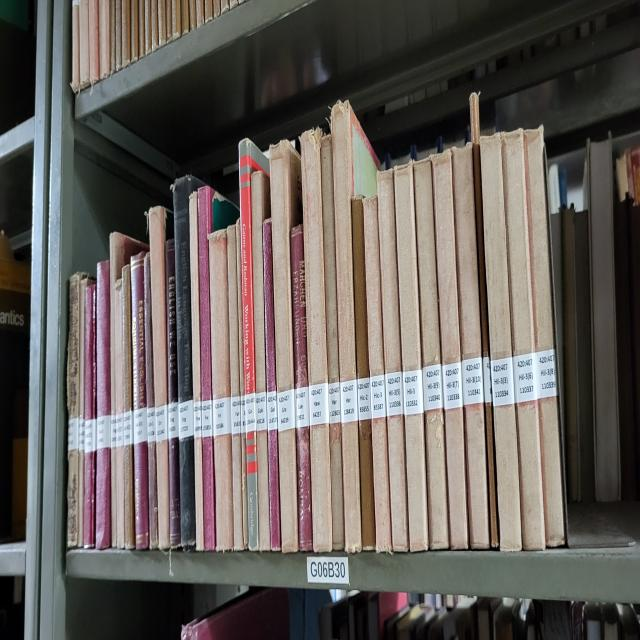Book: (331, 100, 380, 552), (501, 130, 545, 549), (524, 127, 566, 547), (480, 135, 521, 552), (451, 143, 490, 549), (432, 152, 469, 549), (394, 162, 429, 552), (414, 160, 449, 549), (301, 127, 332, 552), (270, 141, 302, 552), (239, 138, 269, 549), (378, 170, 409, 552), (174, 176, 201, 549), (364, 195, 392, 552), (320, 135, 344, 549), (351, 198, 375, 549), (208, 230, 234, 549), (149, 206, 170, 549), (251, 170, 270, 549), (290, 225, 312, 552), (198, 187, 216, 549), (262, 219, 281, 549), (226, 225, 245, 549), (130, 252, 149, 549), (66, 273, 86, 547), (189, 192, 204, 549), (165, 238, 181, 547), (95, 260, 111, 549), (144, 254, 159, 549), (121, 265, 135, 549), (84, 281, 96, 549), (114, 279, 125, 549), (78, 279, 89, 547), (110, 287, 118, 547)
Label: (514, 352, 538, 403), (491, 357, 515, 406), (461, 357, 484, 406), (535, 349, 558, 398), (402, 368, 424, 417), (422, 363, 442, 411), (442, 363, 462, 411), (309, 381, 329, 425), (385, 371, 404, 417), (340, 379, 358, 425), (370, 373, 386, 419), (278, 390, 295, 433), (212, 398, 231, 436), (179, 400, 194, 441), (295, 387, 310, 427), (116, 411, 132, 446), (358, 376, 371, 419), (155, 403, 168, 444), (134, 406, 148, 444), (329, 381, 341, 425), (96, 414, 111, 449), (255, 392, 268, 430), (266, 390, 278, 430), (482, 357, 492, 403), (168, 400, 179, 441), (245, 392, 256, 433), (84, 419, 96, 455), (201, 400, 212, 438), (231, 395, 241, 436), (68, 417, 79, 452), (146, 406, 156, 444), (194, 400, 202, 438)
